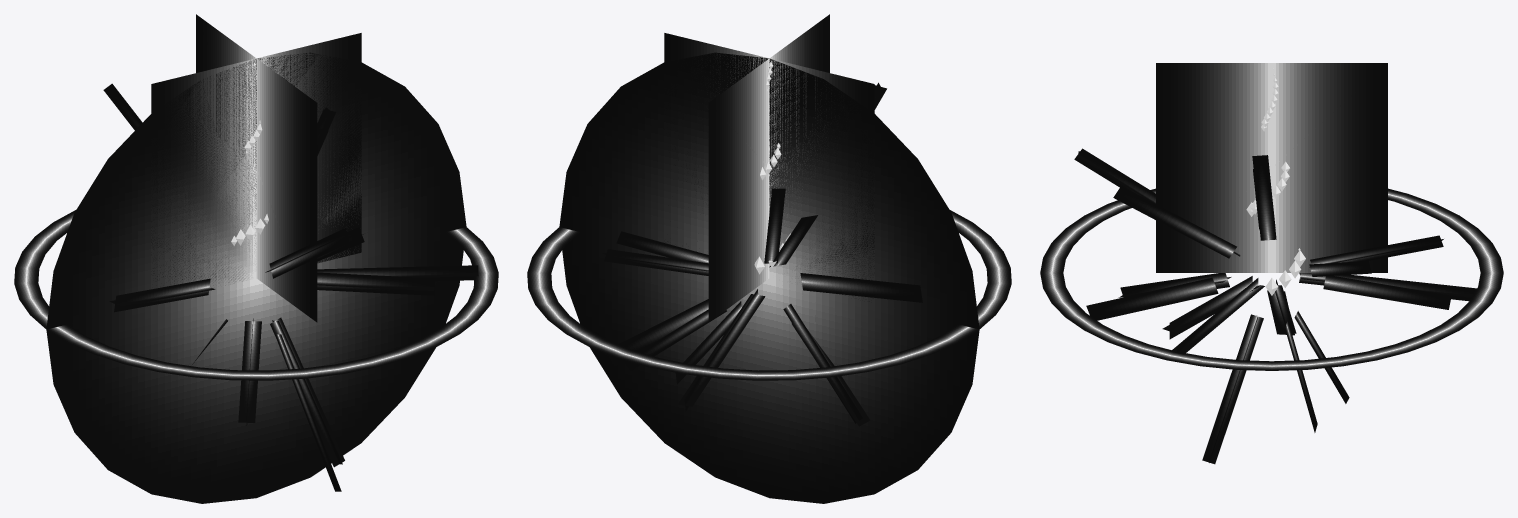
Rendered from viewmodel_fx.glb.
The picture shows the model from 3 angles, left to right: view 1: azimuth 30°, elevation 25°; view 2: azimuth 150°, elevation 25°; view 3: azimuth 270°, elevation 25°; orthographic projection. The views are drawn at different scales.
Visible parts, largest first — view 1: fx_flare, fx_tracer, fx_ring, fx_sparks_0, fx_sparks_1, fx_stream; view 2: fx_flare, fx_tracer, fx_ring, fx_sparks_1, fx_sparks_0, fx_stream; view 3: fx_tracer, fx_sparks_0, fx_ring, fx_sparks_1, fx_stream.
Part boxes in pixels (x1=…): fx_flare: x1=46, y1=52, x2=466, y2=503; fx_tracer: x1=151, y1=14, x2=361, y2=322; fx_ring: x1=14, y1=210, x2=498, y2=380; fx_sparks_0: x1=109, y1=107, x2=478, y2=467; fx_sparks_1: x1=103, y1=83, x2=435, y2=491; fx_stream: x1=231, y1=63, x2=268, y2=245; fx_flare: x1=559, y1=52, x2=979, y2=503; fx_tracer: x1=664, y1=14, x2=874, y2=322; fx_ring: x1=527, y1=210, x2=1011, y2=380; fx_sparks_1: x1=616, y1=188, x2=922, y2=426; fx_sparks_0: x1=603, y1=82, x2=886, y2=423; fx_stream: x1=754, y1=62, x2=790, y2=274; fx_tracer: x1=1156, y1=63, x2=1387, y2=272; fx_sparks_0: x1=1074, y1=148, x2=1476, y2=464; fx_ring: x1=1040, y1=188, x2=1503, y2=370; fx_sparks_1: x1=1113, y1=169, x2=1451, y2=403; fx_stream: x1=1246, y1=68, x2=1305, y2=295.
Bounding box in the file's own units: 2 × 2 × 2.
Materials: 2 (2 with a texture image).
